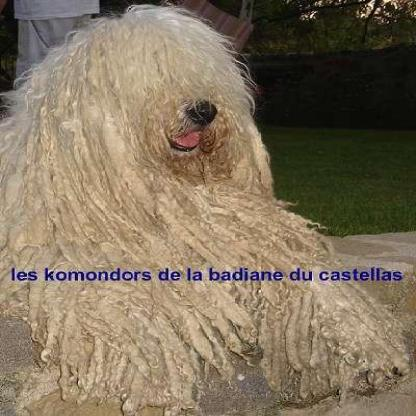komondor: (0, 1, 409, 413)
